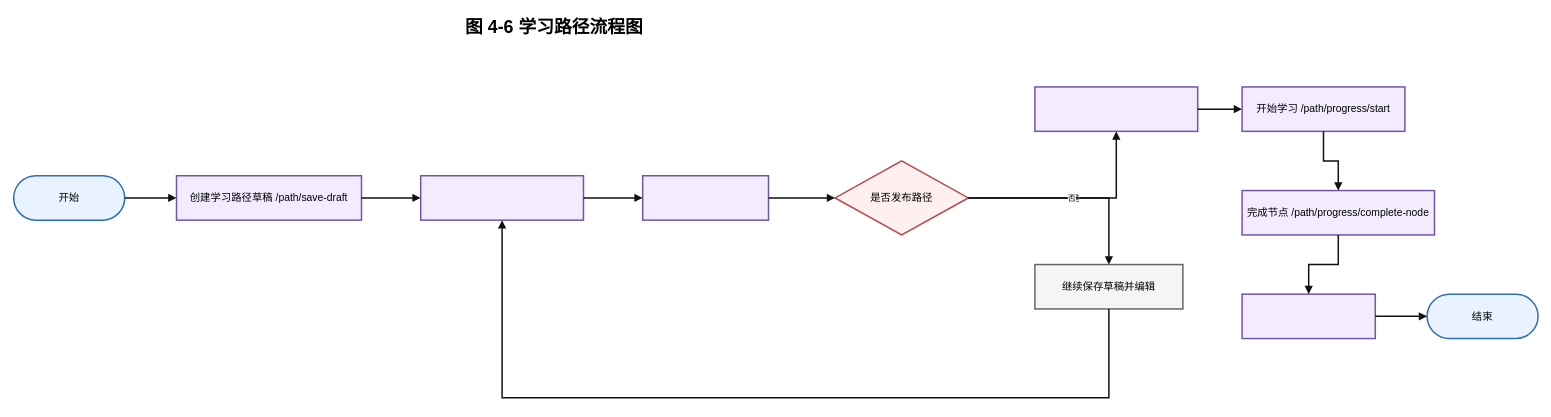
Some shapes in this 1551 by 417 pixel diagram are drawn without their labels. The centre of each missing label's shape, as x and y in pixels:
"更新学习进度" belongs at [1308,316].
"绑定资源文件" belongs at [705,198].
"维护路径节点（parent_id）" belongs at [502,198].
"调用 /path/publish 发布路径" belongs at [1116,109].
